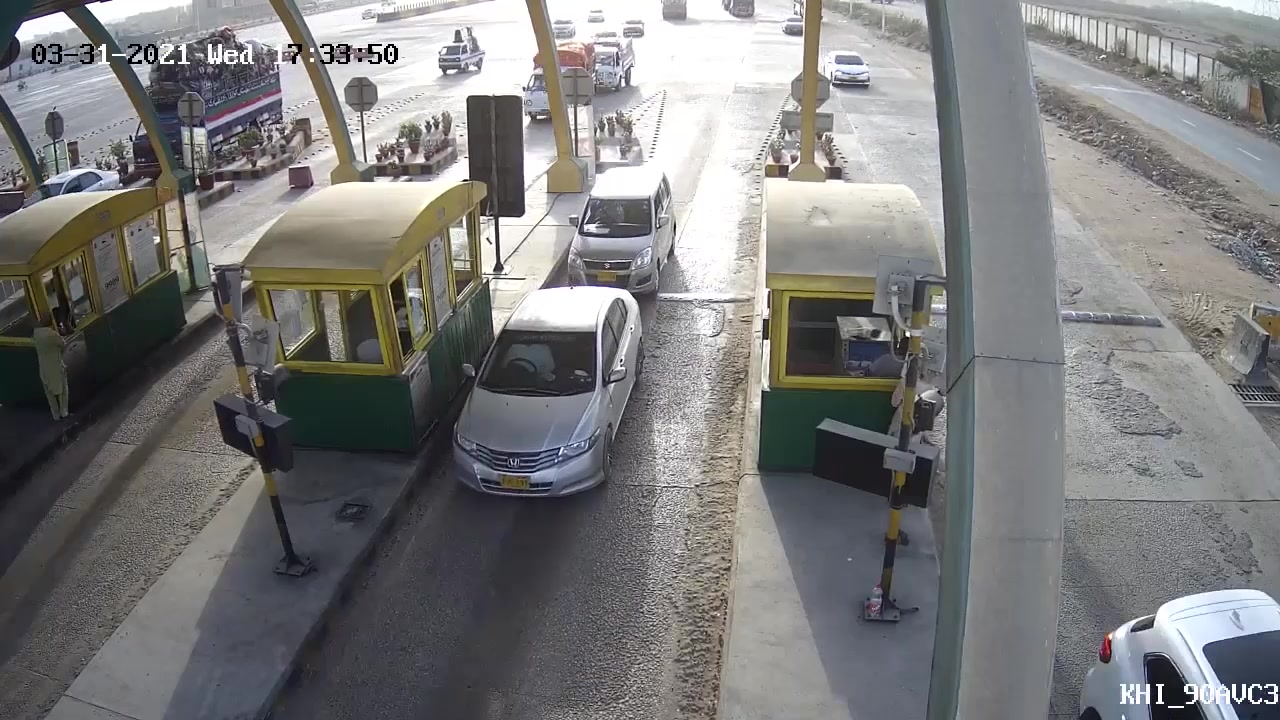F1: (451, 281, 647, 531)
